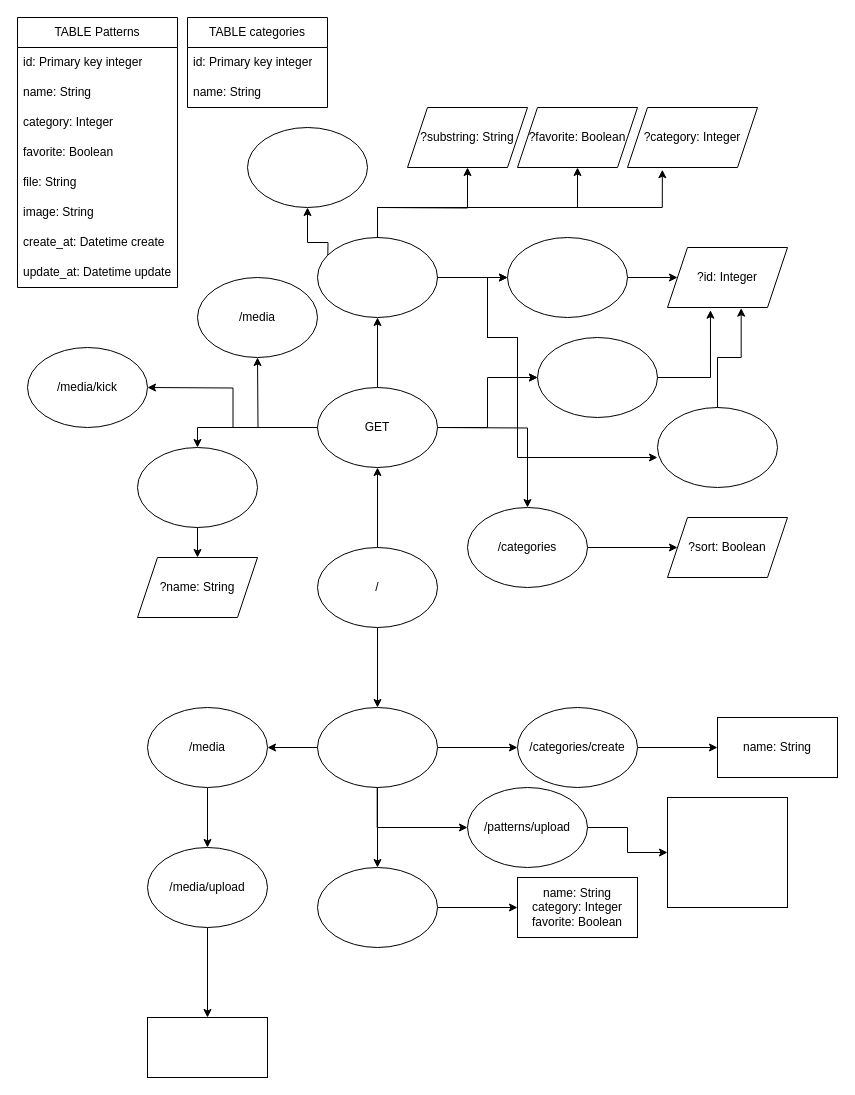
The diagram is 855 pixels wide and 1095 high, and some of its shapes have lost their labels. Here are the shapes that lost their labels. From the top down, the centre of each, then its label:
the point at 307,167: /patterns/{id: Integer}
the point at 377,277: /patterns
the point at 567,277: /patterns/preview
the point at 597,377: /patterns/delete
the point at 717,447: /patterns/export
the point at 197,487: /media/delete
the point at 377,747: POST
the point at 727,852: name: String category: Integer favorite: Boolean file: File
the point at 377,907: /patterns/update
the point at 207,1047: file: File
